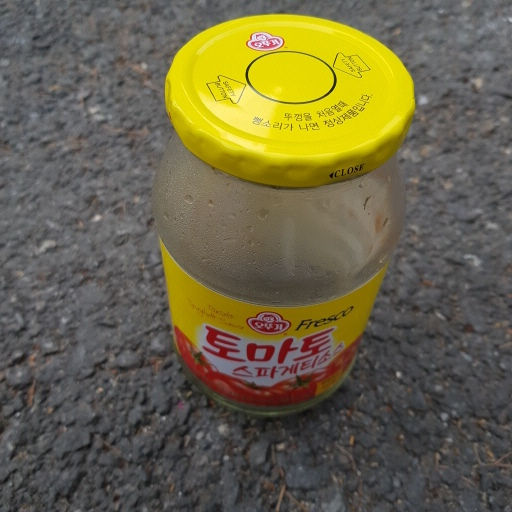Glass_5: (154, 14, 418, 417)
